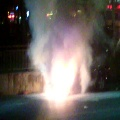fire: (42, 59, 76, 102)
